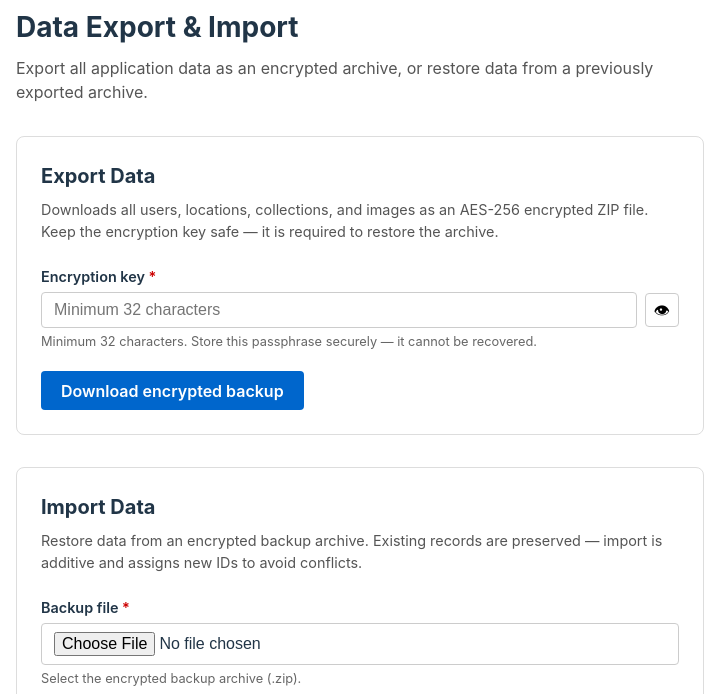
Test: ImportExportPage › Export form validation › shows error when encryption key is shorter than 32 characters
Step 1. Type "short-key" into the password field labelled "Encryption key *" → (339, 310), box [41,292,637,328]
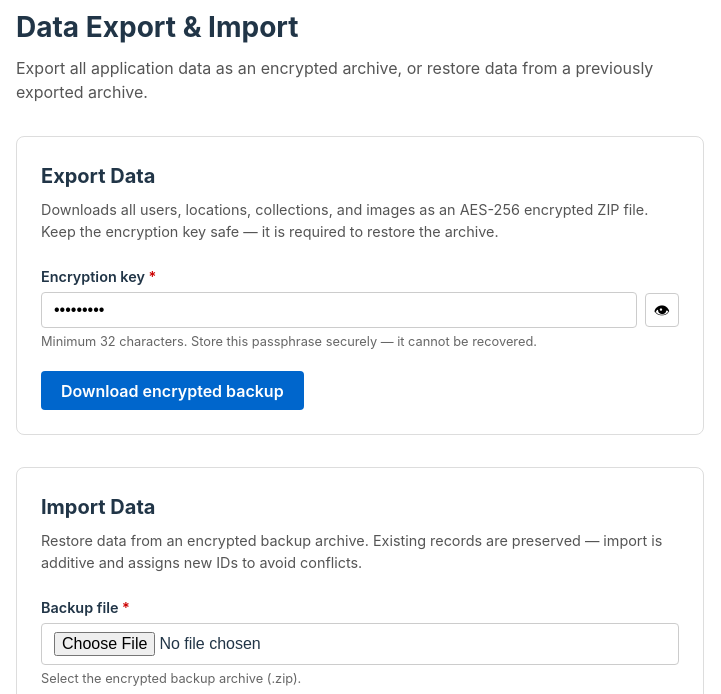
Step 2. Click the button "Download encrypted backup" → (172, 391), box [41,371,304,410]
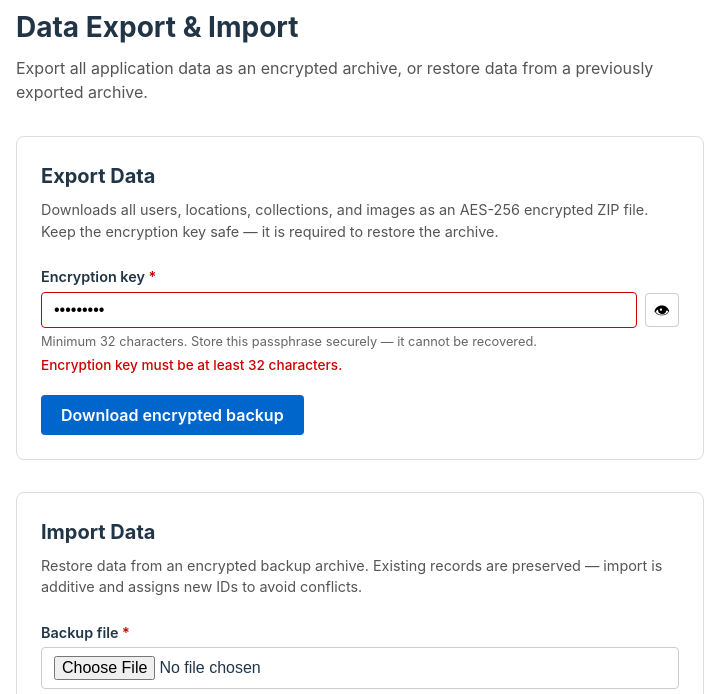
Now the text "Encryption key must be at least 32 characters." is shown, box [41,357,342,373]
